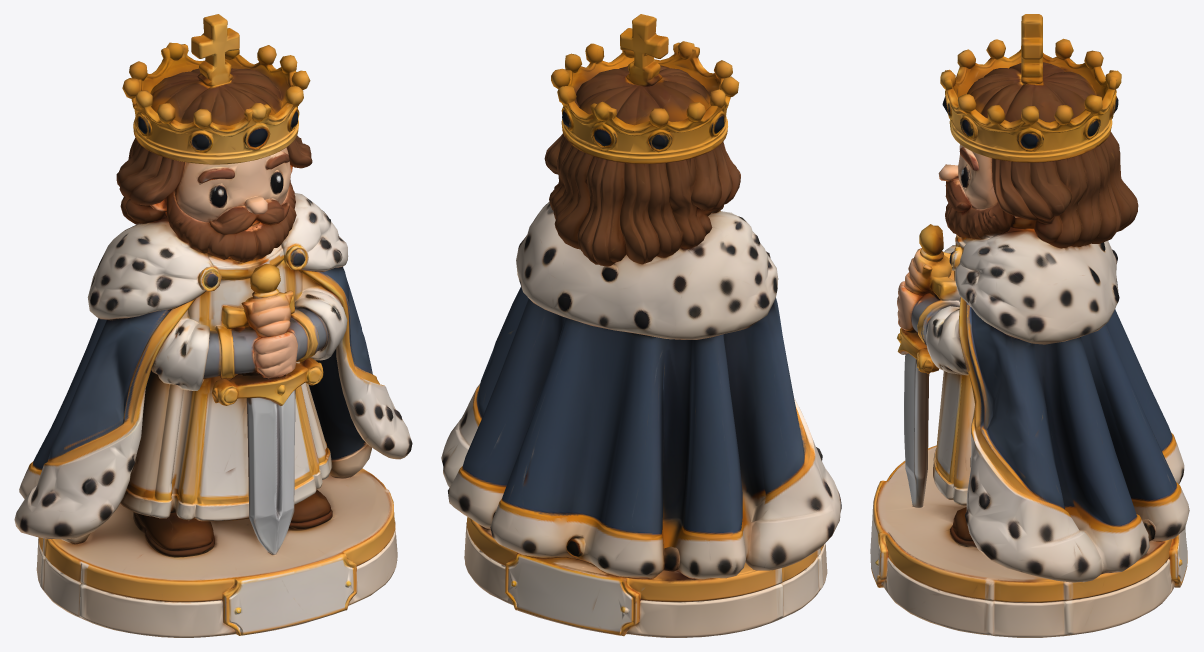
The model's file is child-crusader-k-budget50.glb.
3 renders of one model, left to right at view 1: azimuth 30°, elevation 25°; view 2: azimuth 150°, elevation 25°; view 3: azimuth 270°, elevation 25°, orthographic.
Parts seen in each view (by area): view 1: node_0; view 2: node_0; view 3: node_0.
Boxes of the visible parts, x1=… form: node_0: x1=14, y1=14, x2=412, y2=637; node_0: x1=441, y1=14, x2=841, y2=637; node_0: x1=870, y1=14, x2=1189, y2=637.
Size of the model in its own units: 0.7447 by 1.03 by 0.5463.
Materials: 1 (1 with a texture image).
